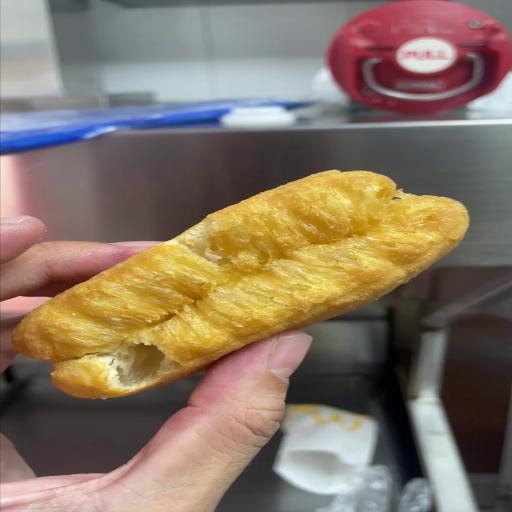brand_golden_defect: (13, 170, 467, 398)
